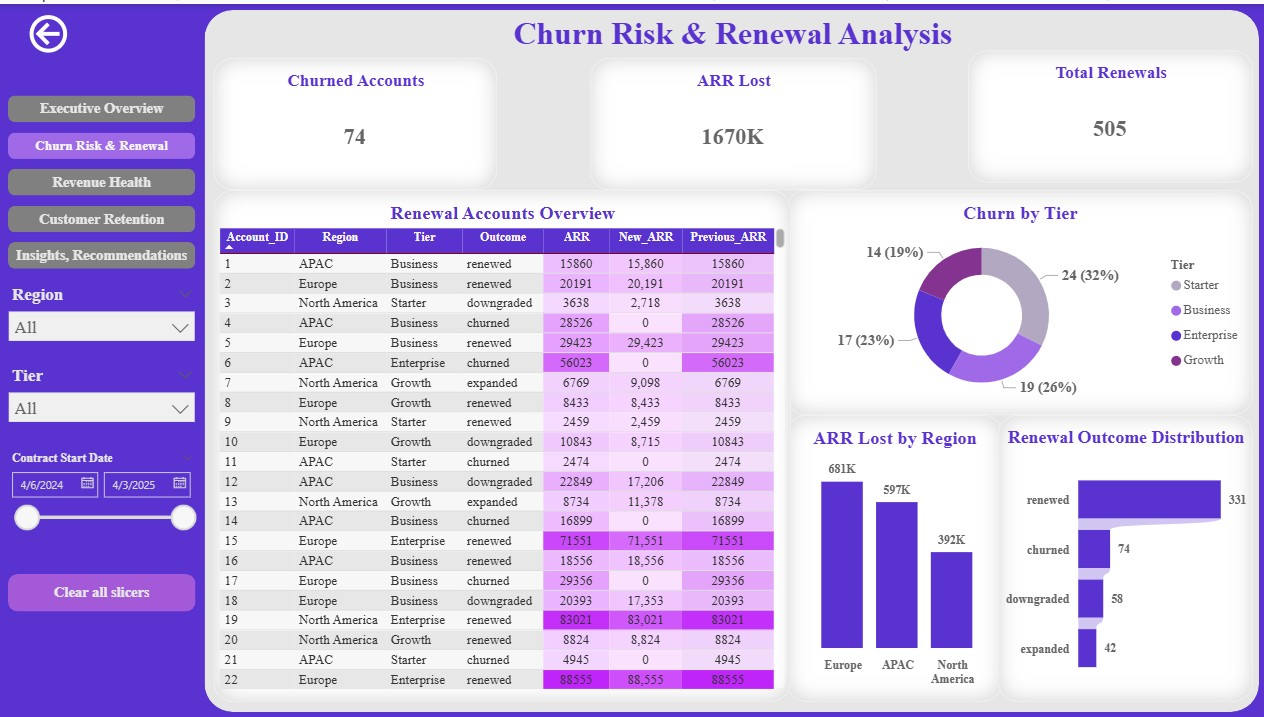

Layout of this report page (visuals, bound fields, positions):
{"tool":"powerbi","page":{"name":"Churn Risk & Renewal","canvas":[1280,720],"ordinal":1},"visuals":[{"type":"shape","box":[207.4,6.1,1064.5,708.6],"z":0},{"type":"actionButton","box":[9.1,575.4,189.3,37.9],"z":1000},{"type":"pageNavigator","box":[9.1,92.4,189.3,175.6],"z":2000},{"type":"cardVisual","title":"Churned Accounts","fields":{"Data":["Measure Table.Churned Accounts"]},"box":[216.5,54.5,286.2,133.3],"z":3000},{"type":"cardVisual","title":"ARR Lost","fields":{"Data":["Measure Table.ARR Lost"]},"box":[596.6,54.5,289.2,133.3],"z":4000},{"type":"cardVisual","title":"Total Renewals","fields":{"Data":["CountNonNull(renewals.account_id)"]},"box":[978.2,46.9,287.7,133.3],"z":5000},{"type":"donutChart","title":"Churn by Tier","fields":{"Category":["accounts.tier"],"Y":["Measure Table.Churned Accounts"]},"box":[795,187.8,470.9,227.1],"z":6000},{"type":"columnChart","title":"ARR Lost by Region","fields":{"Category":["accounts.region"],"Y":["Measure Table.ARR Lost"]},"box":[794.2,414.9,218,289.2],"z":7000},{"type":"barChart","title":"Renewal Outcome Distribution","fields":{"Category":["renewals.outcome"],"Y":["CountNonNull(renewals.account_id)"]},"box":[1008.5,414.9,257.4,289.2],"z":8000},{"type":"textbox","box":[216.7,6.4,1048.3,96.3],"z":9000},{"type":"actionButton","box":[25.7,6.4,115.6,48.2],"z":10000},{"type":"slicer","fields":{"Values":["accounts.region"]},"box":[0,278.6,207.4,81.8],"z":13000},{"type":"slicer","fields":{"Values":["accounts.tier"]},"box":[0,360.4,207.4,80.3],"z":14000},{"type":"slicer","fields":{"Values":["accounts.contract_start"]},"box":[0,446.7,207.4,116.6],"z":15000},{"type":"tableEx","title":"Renewal Accounts Overview","fields":{"Values":["accounts.account_id","accounts.region","accounts.tier","renewals.outcome","Sum(accounts.arr)","Sum(renewals.new_arr)","Sum(renewals.previous_arr)"]},"box":[216.5,187.8,583,516.3],"z":16000}]}

Visuals, with their boxes in screenshot pixels (x1, y1, x2, y2), scaled from the page's 1280x720 canvas onto the 1264x717 screenshot:
shape: <region>205, 6, 1256, 712</region>
actionButton: <region>9, 573, 196, 611</region>
pageNavigator: <region>9, 92, 196, 267</region>
"Churned Accounts" cardVisual: <region>214, 54, 496, 187</region>
"ARR Lost" cardVisual: <region>589, 54, 875, 187</region>
"Total Renewals" cardVisual: <region>966, 47, 1250, 179</region>
"Churn by Tier" donutChart: <region>785, 187, 1250, 413</region>
"ARR Lost by Region" columnChart: <region>784, 413, 1000, 701</region>
"Renewal Outcome Distribution" barChart: <region>996, 413, 1250, 701</region>
textbox: <region>214, 6, 1249, 102</region>
actionButton: <region>25, 6, 140, 54</region>
slicer - accounts.region: <region>0, 277, 205, 359</region>
slicer - accounts.tier: <region>0, 359, 205, 439</region>
slicer - accounts.contract_start: <region>0, 445, 205, 561</region>
"Renewal Accounts Overview" tableEx: <region>214, 187, 790, 701</region>
